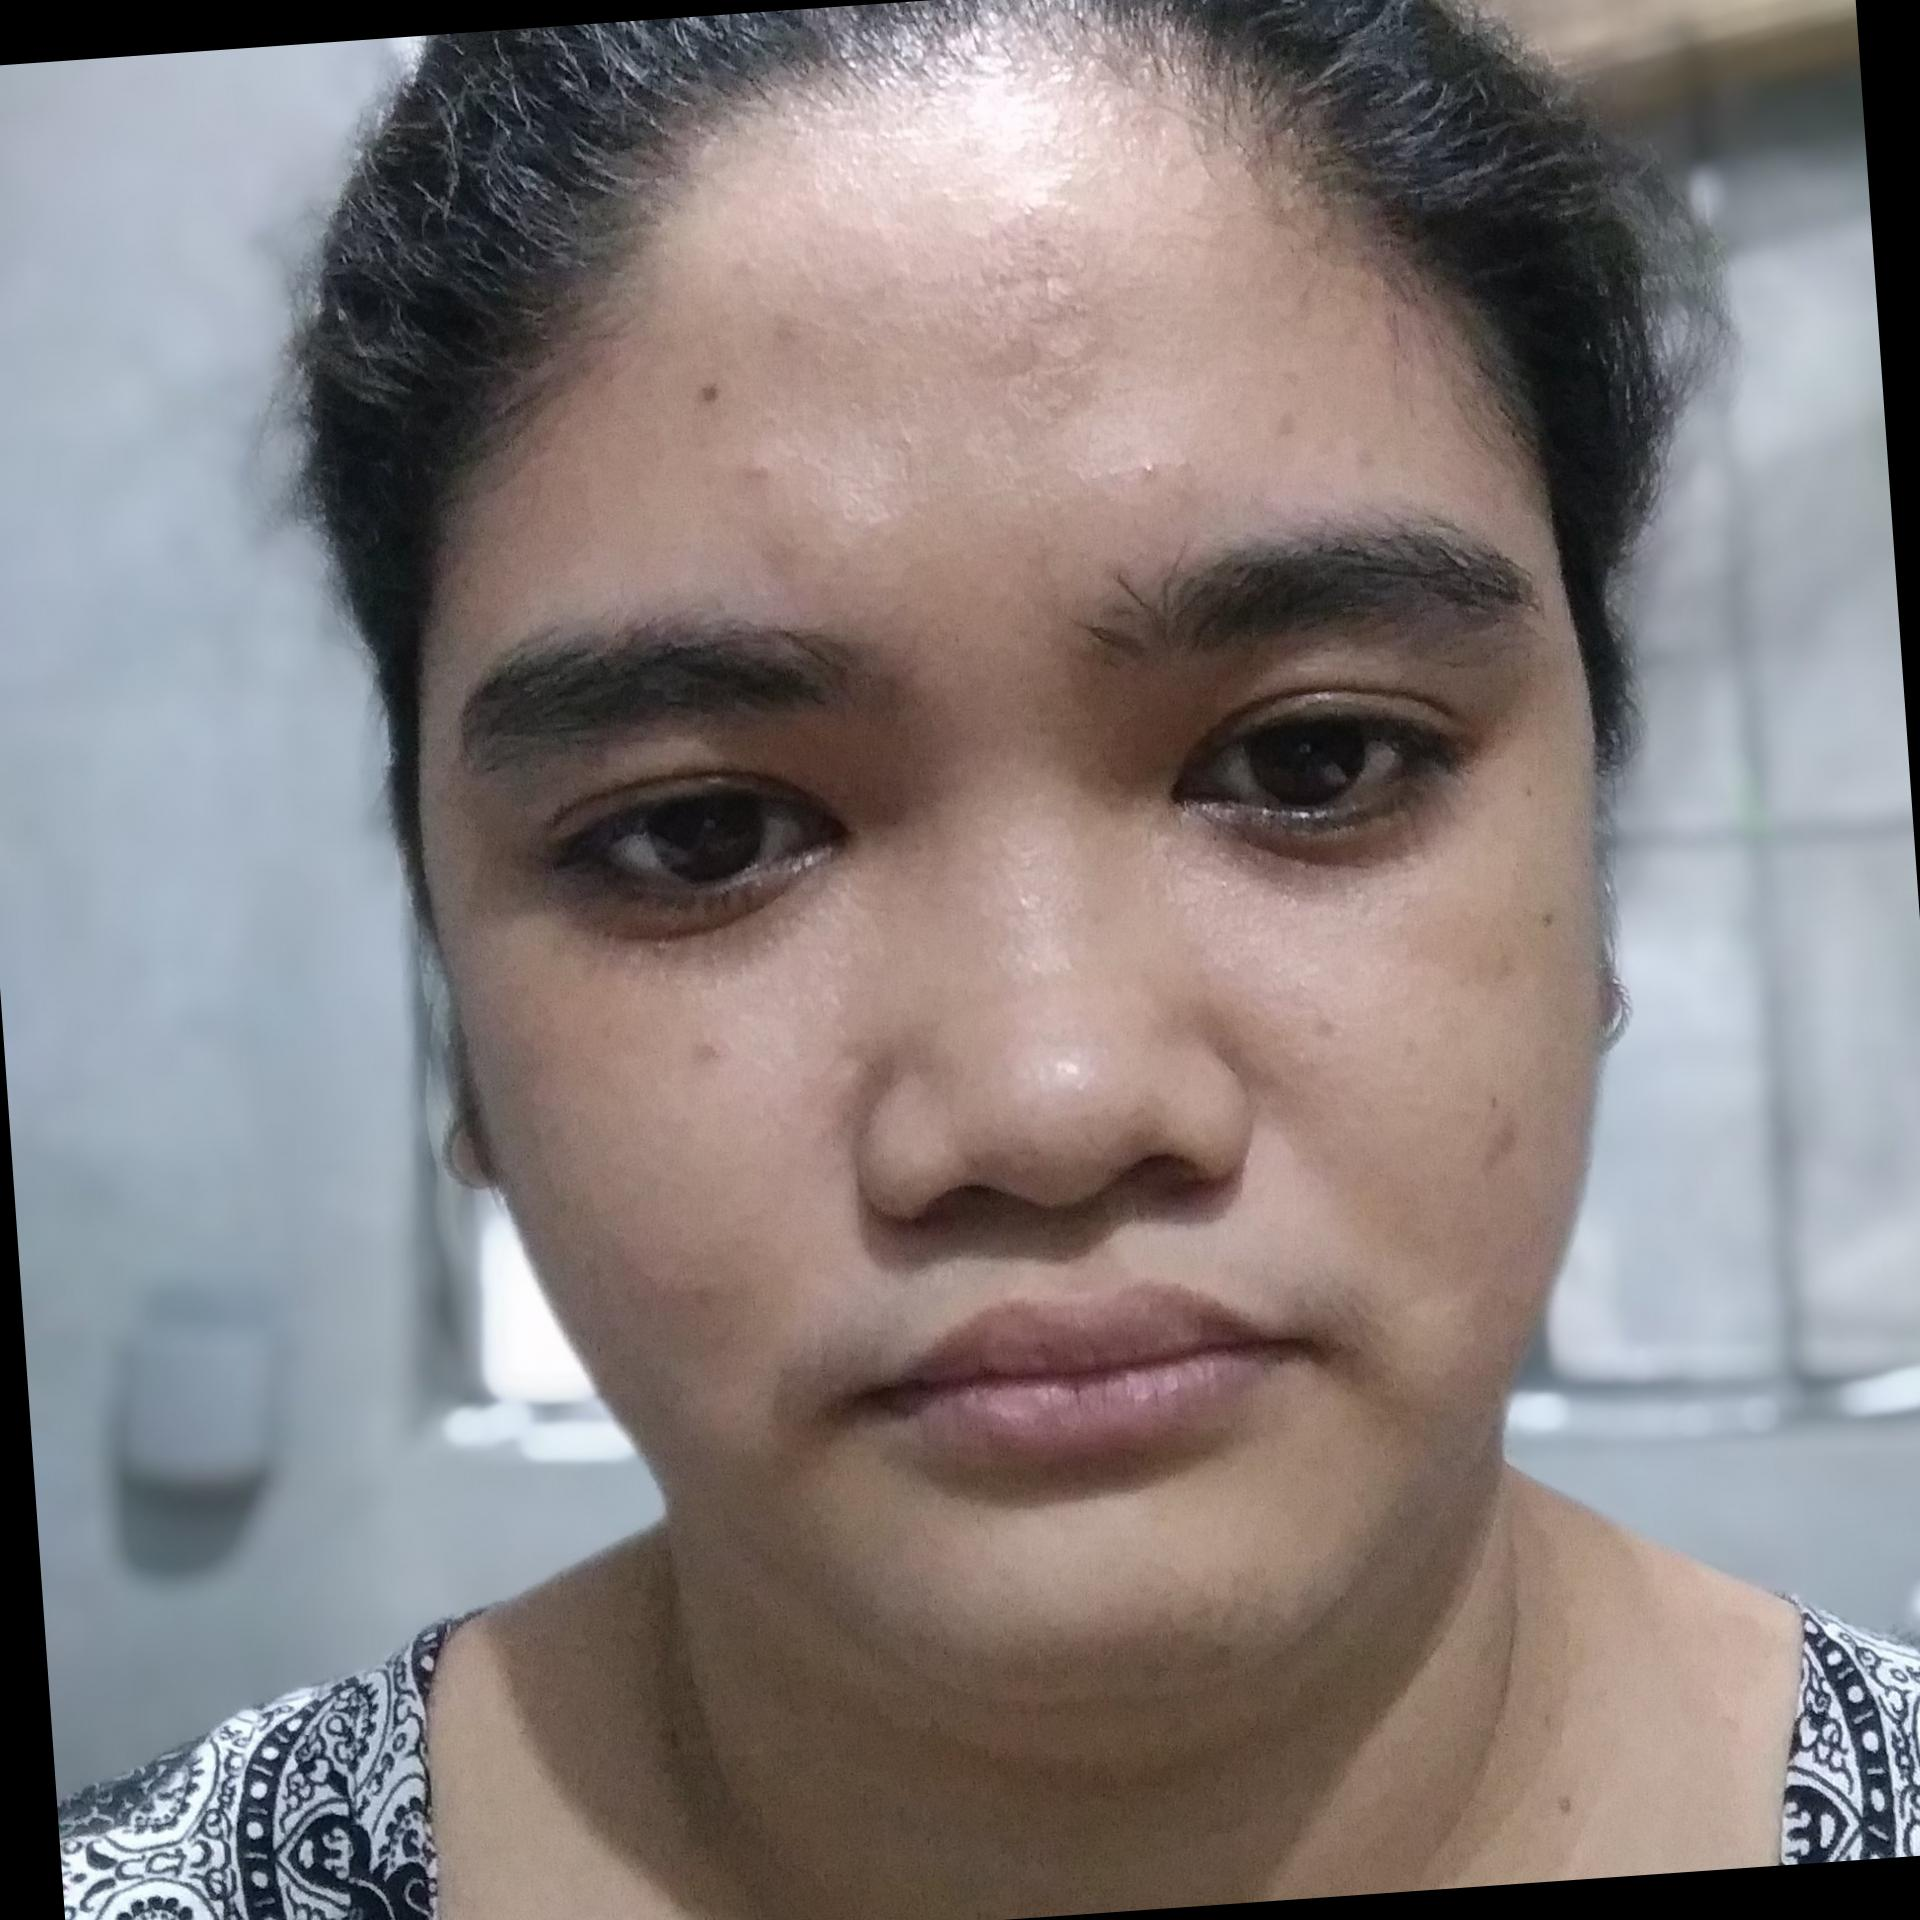Acne: (1466, 1102, 1537, 1183), (1299, 997, 1354, 1051), (730, 443, 779, 501), (677, 1023, 731, 1074), (673, 1276, 723, 1324), (1127, 443, 1169, 496)
Dark Circles: (543, 863, 851, 1000), (1145, 805, 1468, 928)
Wrinkles: (1261, 1095, 1359, 1217)
